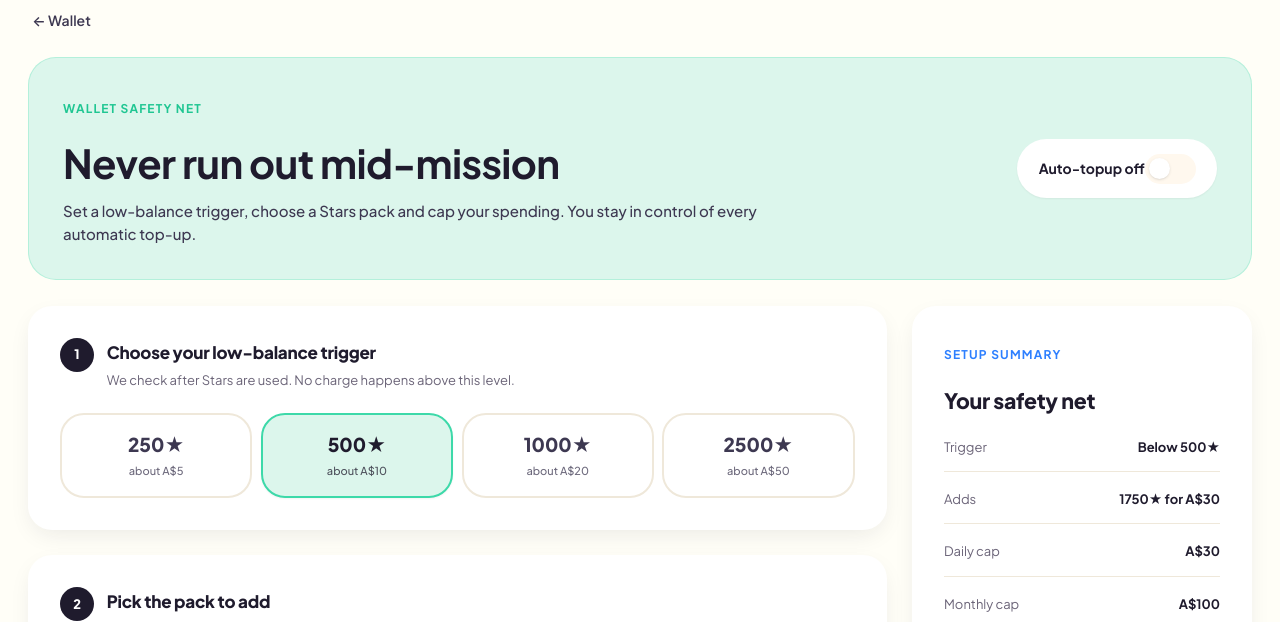
Test: WalletAutoTopupPage › blocks an enabled setup without a saved card
Click the switch at x=1117, y=169, box x1=1018 y1=139 x2=1217 y2=198
(page scrolled)
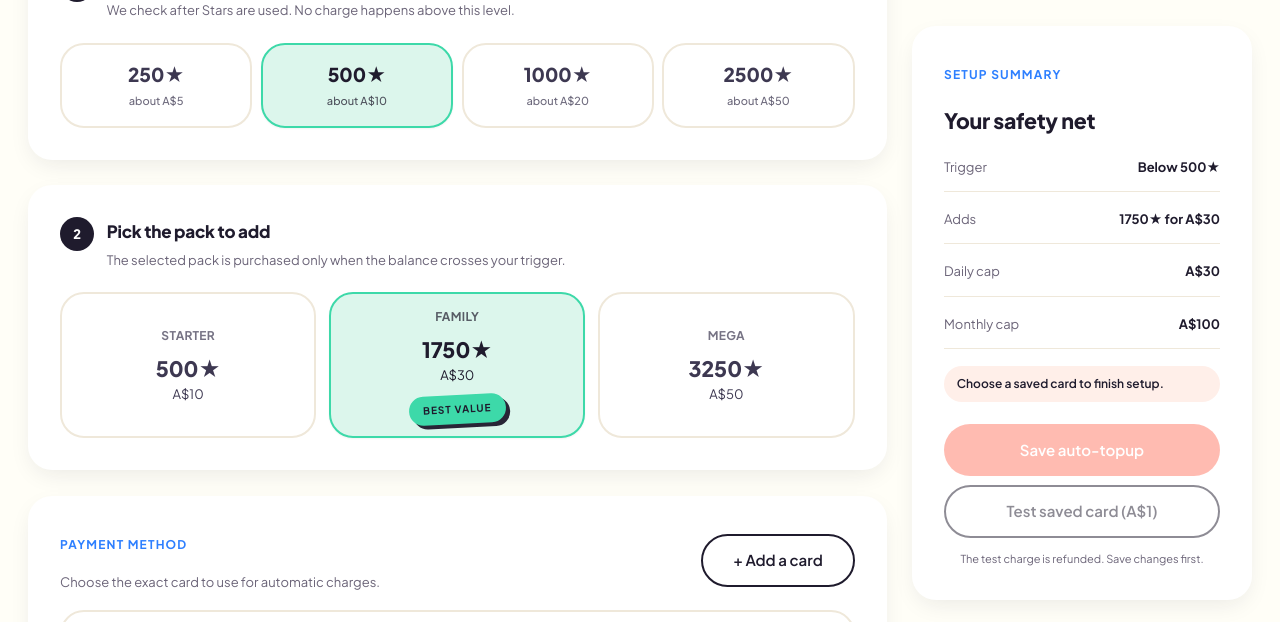
Expected: the button "Save auto-topup" is disabled, x1=944 y1=423 x2=1220 y2=476
Expected: the text "Choose a saved card to finish setup." is shown, x1=944 y1=365 x2=1220 y2=402
